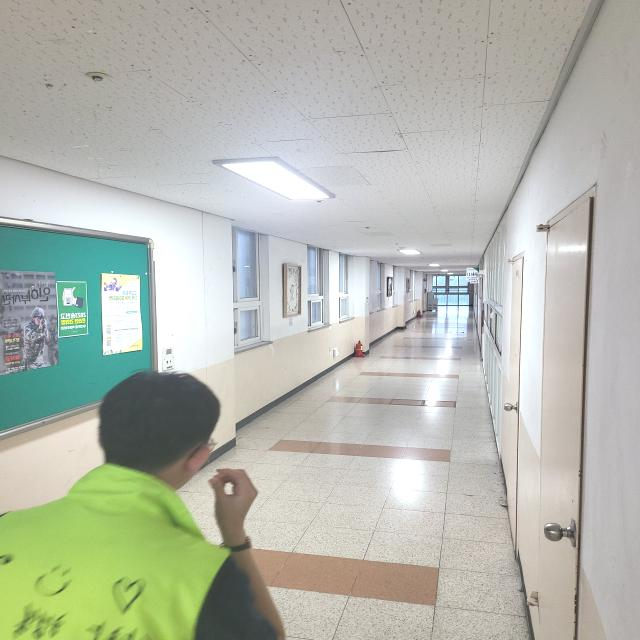weston_spy: (0, 467, 255, 640)
